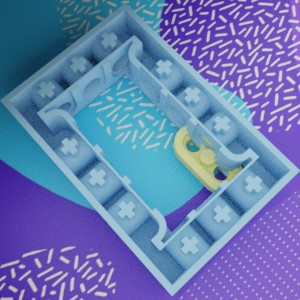lego: (0, 3, 300, 296), (173, 124, 242, 194)
